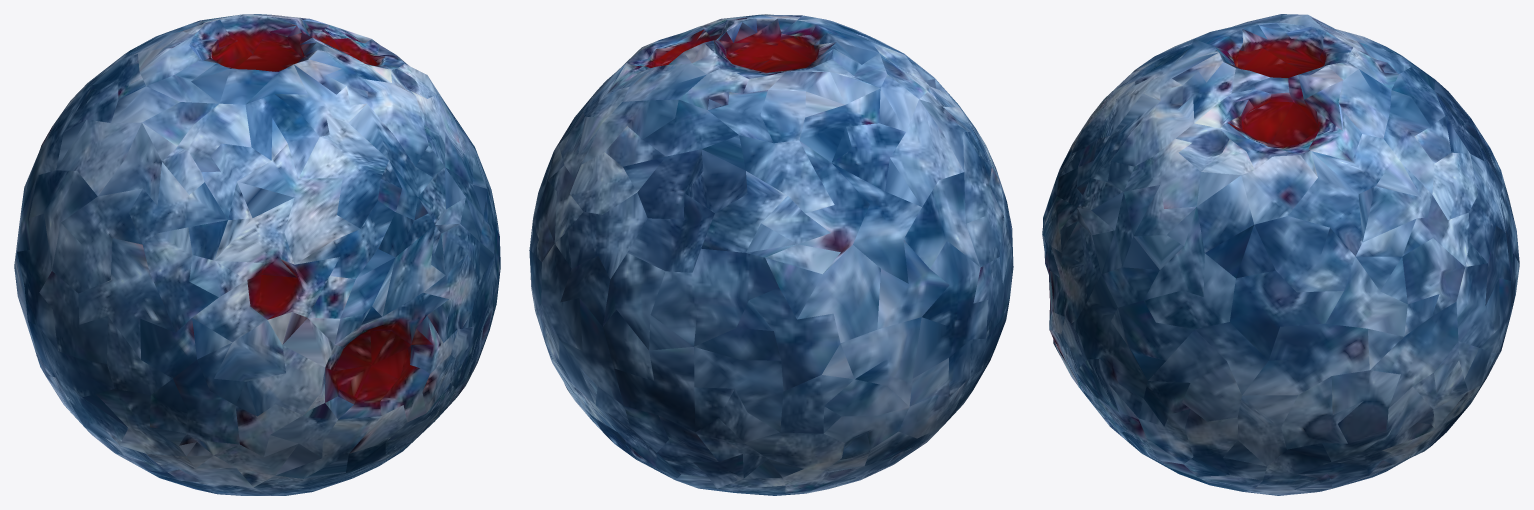
File: moon_06.glb
The picture shows the model from 3 angles, left to right: view 1: azimuth 30°, elevation 25°; view 2: azimuth 150°, elevation 25°; view 3: azimuth 270°, elevation 25°; orthographic projection. The views are drawn at different scales.
Parts seen in each view (by area): view 1: Mesh_0; view 2: Mesh_0; view 3: Mesh_0.
Part boxes in pixels (left/top/right/bottom): Mesh_0: left=14, top=14, right=500, bottom=495; Mesh_0: left=529, top=14, right=1013, bottom=495; Mesh_0: left=1042, top=14, right=1519, bottom=495.
Bounding box in the file's own units: 1.9 × 1.85 × 1.9.
Materials: 1 (1 with a texture image).
